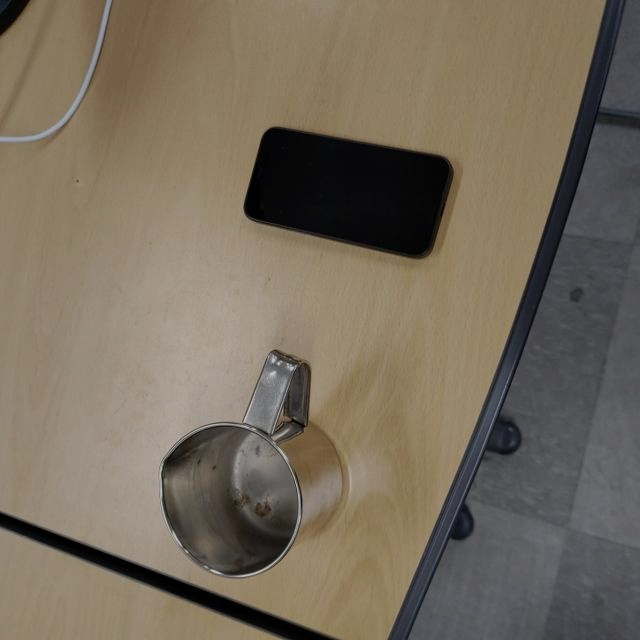cup: (159, 347, 347, 577)
phone: (242, 125, 456, 262)
